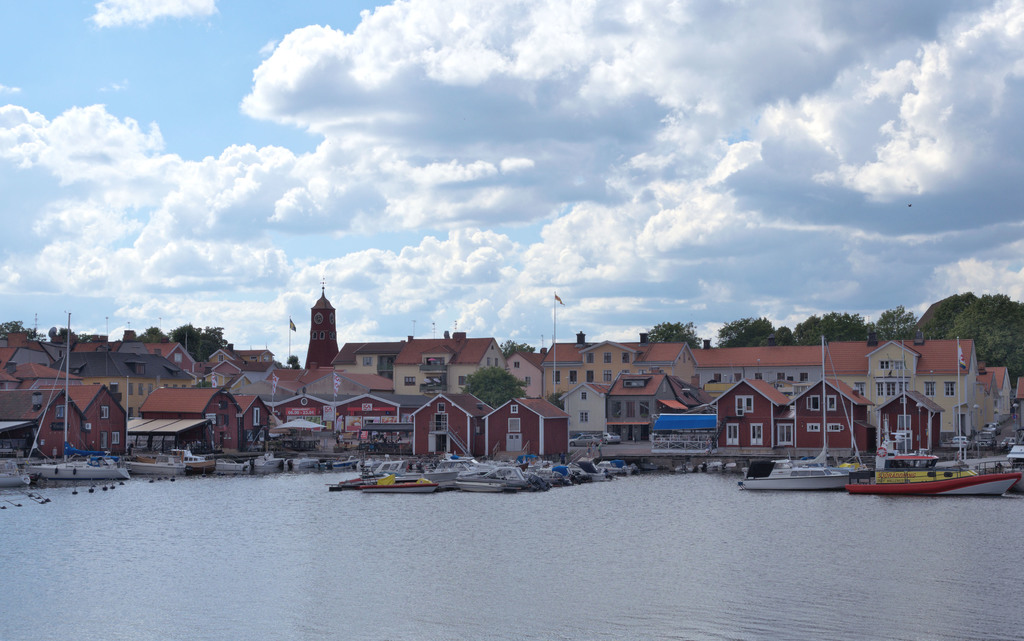Tree: (946, 276, 1016, 356), (130, 324, 227, 369), (464, 363, 531, 413), (793, 314, 877, 346), (869, 303, 923, 346), (717, 315, 776, 348), (647, 317, 705, 349), (0, 316, 50, 348), (49, 325, 99, 349), (761, 328, 797, 355), (500, 335, 536, 354), (285, 349, 306, 371)
